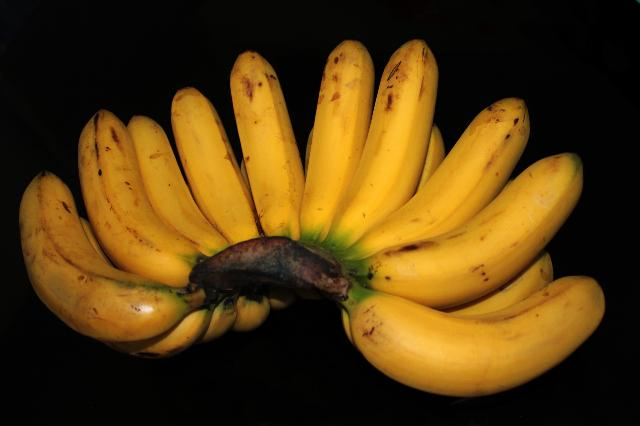Bananas: (372, 40, 584, 294), (348, 277, 608, 395), (22, 174, 172, 350), (80, 110, 202, 282), (301, 41, 373, 243), (230, 50, 304, 240), (174, 88, 252, 244)
